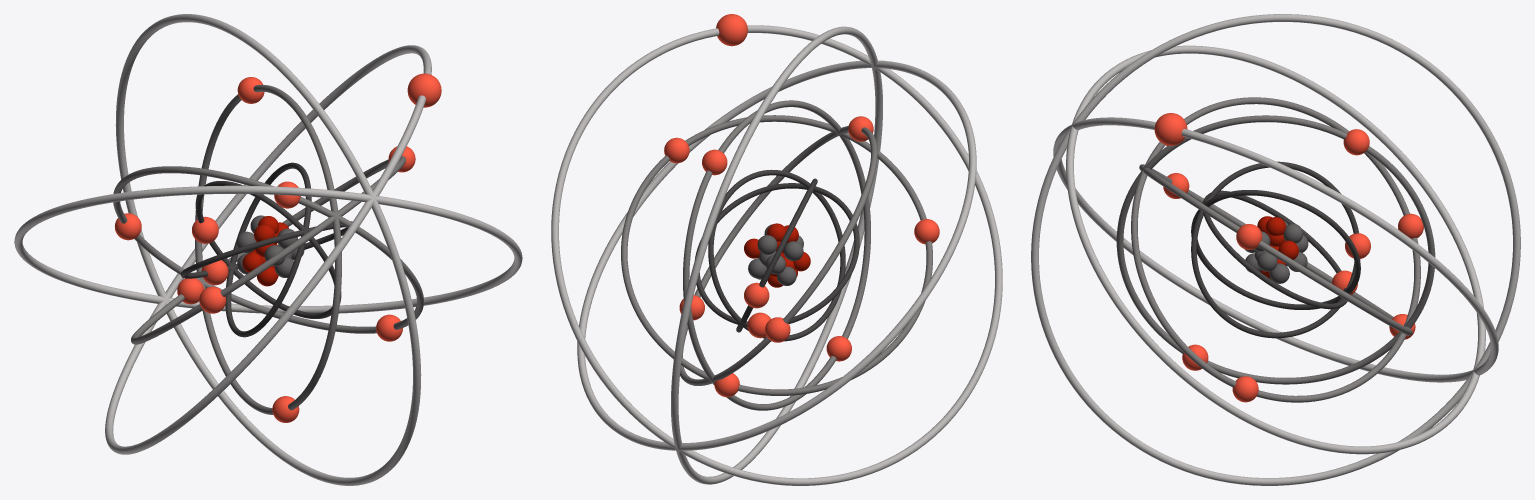
File: sodium-atom.glb
The picture shows the model from 3 angles, left to right: view 1: azimuth 30°, elevation 25°; view 2: azimuth 150°, elevation 25°; view 3: azimuth 270°, elevation 25°; orthographic projection. The views are drawn at different scales.
Parts seen in each view (by area): view 1: M-orbit-3, M-orbit-2, M-orbit-1, L-orbit-3, L-orbit-2, L-orbit-1, K-orbit-3, K-orbit-2, K-orbit-1, M-electron-1, L-electron-3, K-electron-2 (+3 smaller); view 2: M-orbit-1, M-orbit-2, M-orbit-3, L-orbit-1, L-orbit-3, L-orbit-2, K-orbit-3, K-orbit-1, K-orbit-2, M-electron-1, L-electron-4, K-electron-2 (+4 smaller); view 3: M-orbit-3, M-orbit-2, M-orbit-1, L-orbit-3, L-orbit-2, L-orbit-1, K-orbit-2, K-orbit-3, K-orbit-1, M-electron-1, L-electron-8, L-electron-2 (+1 smaller).
Boxes of the visible parts, x1,y1,x2,y2 form: M-orbit-3: (115, 14, 421, 485); M-orbit-2: (14, 185, 522, 313); M-orbit-1: (105, 45, 431, 454); L-orbit-3: (195, 84, 341, 414); L-orbit-2: (113, 166, 423, 333); L-orbit-1: (131, 156, 405, 344); K-orbit-3: (225, 162, 311, 337); K-orbit-2: (195, 181, 341, 318); K-orbit-1: (181, 221, 352, 278); M-electron-1: (407, 73, 441, 107); L-electron-3: (199, 286, 226, 313); K-electron-2: (192, 216, 218, 243); M-orbit-1: (551, 25, 1002, 485); M-orbit-2: (577, 60, 976, 450); M-orbit-3: (671, 26, 882, 484); L-orbit-1: (621, 115, 932, 395); L-orbit-3: (683, 100, 870, 410); L-orbit-2: (680, 126, 877, 385); K-orbit-3: (708, 169, 845, 341); K-orbit-1: (694, 183, 859, 326); K-orbit-2: (736, 178, 817, 332); M-electron-1: (716, 14, 747, 46); L-electron-4: (765, 317, 790, 342); K-electron-2: (744, 282, 769, 308); M-orbit-3: (1031, 14, 1520, 485); M-orbit-2: (1066, 45, 1485, 454); M-orbit-1: (1053, 117, 1498, 382); L-orbit-3: (1116, 115, 1435, 384); L-orbit-2: (1131, 97, 1420, 402); L-orbit-1: (1139, 164, 1412, 335); K-orbit-2: (1191, 161, 1360, 338); K-orbit-3: (1191, 190, 1360, 309); K-orbit-1: (1202, 190, 1348, 309); M-electron-1: (1154, 113, 1187, 145); L-electron-8: (1343, 129, 1369, 155); L-electron-2: (1236, 224, 1262, 249).
Bounding box in the file's own units: 1.63 × 1.71 × 1.72.
